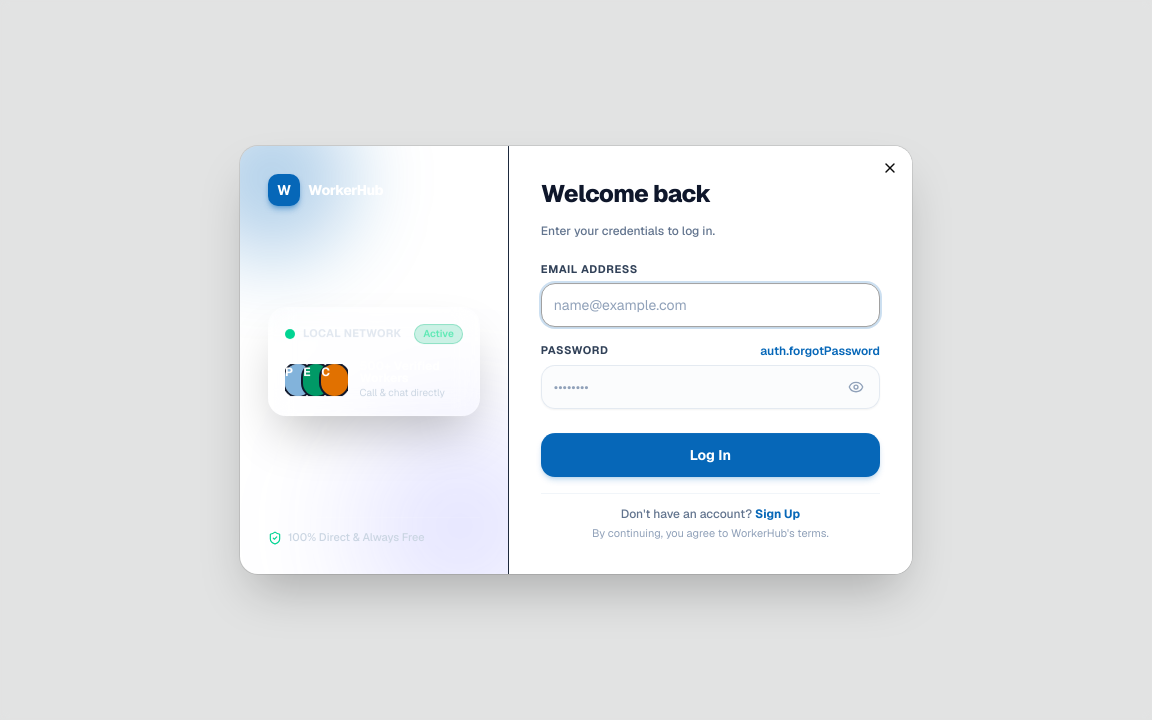
Test: AuthDialog › displays error message and remains open on auth failure
The image size is (1152, 720).
Type "wrong@example.com" into the field labelled "Email Address" at (710, 305), box [541, 283, 880, 327]
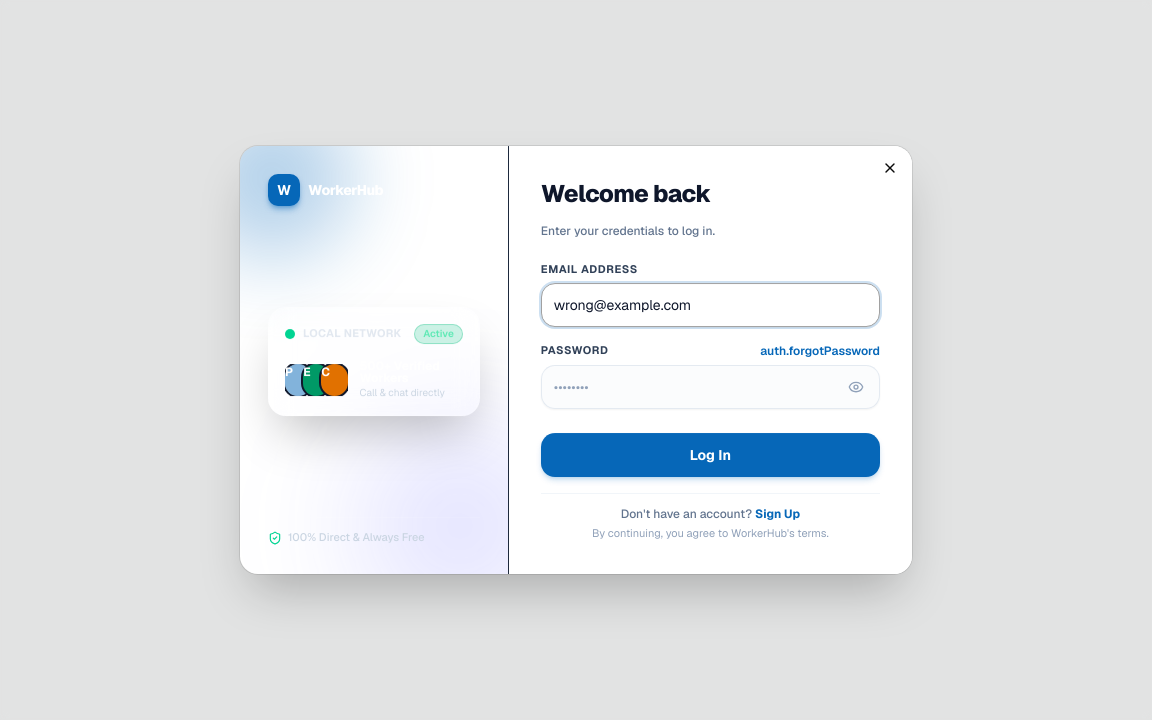
Type "wrongpass" into the password field labelled "Password" at (710, 387), box [541, 365, 880, 409]
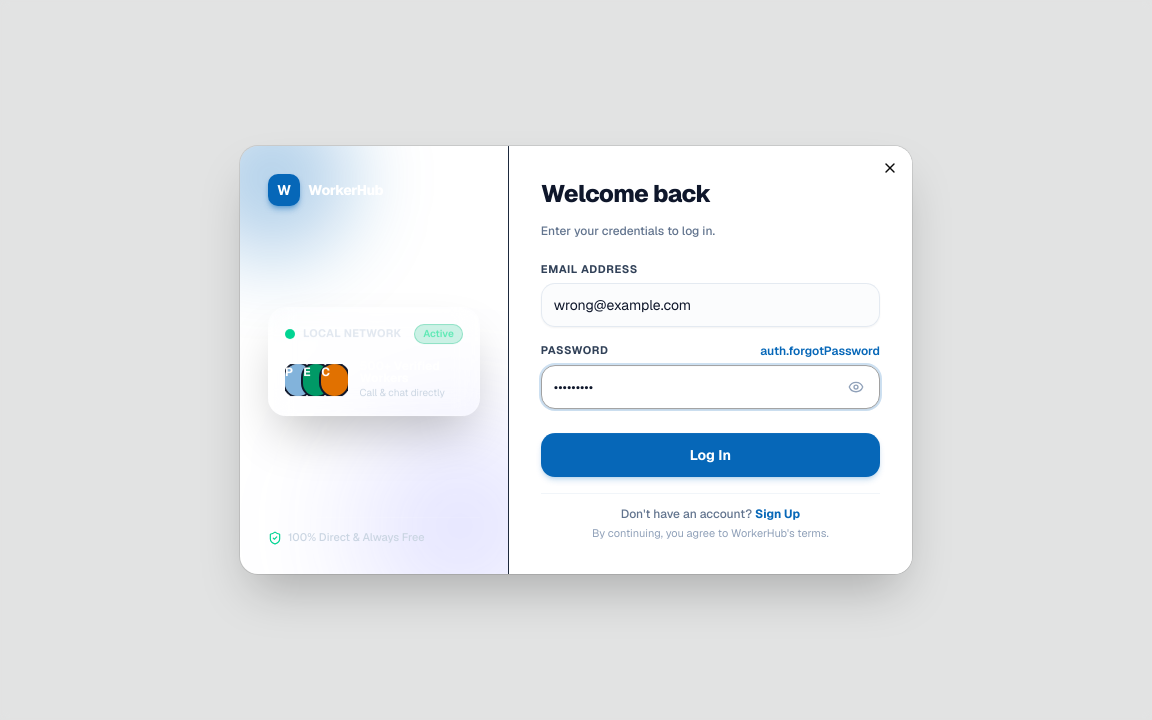
Click the button "Log In" at (710, 455), box [541, 433, 880, 477]
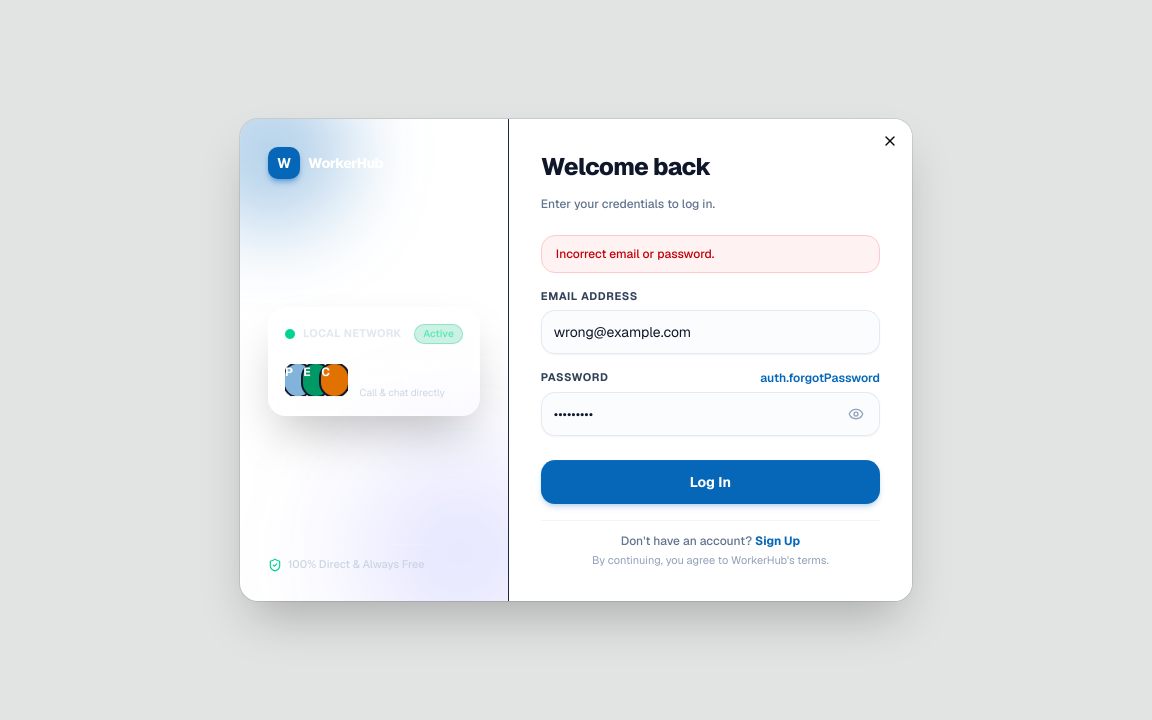
Expected: the dialog is shown, [240, 119, 912, 601]
Now the message reads "Incorrect email or password.", box [556, 246, 714, 262]
